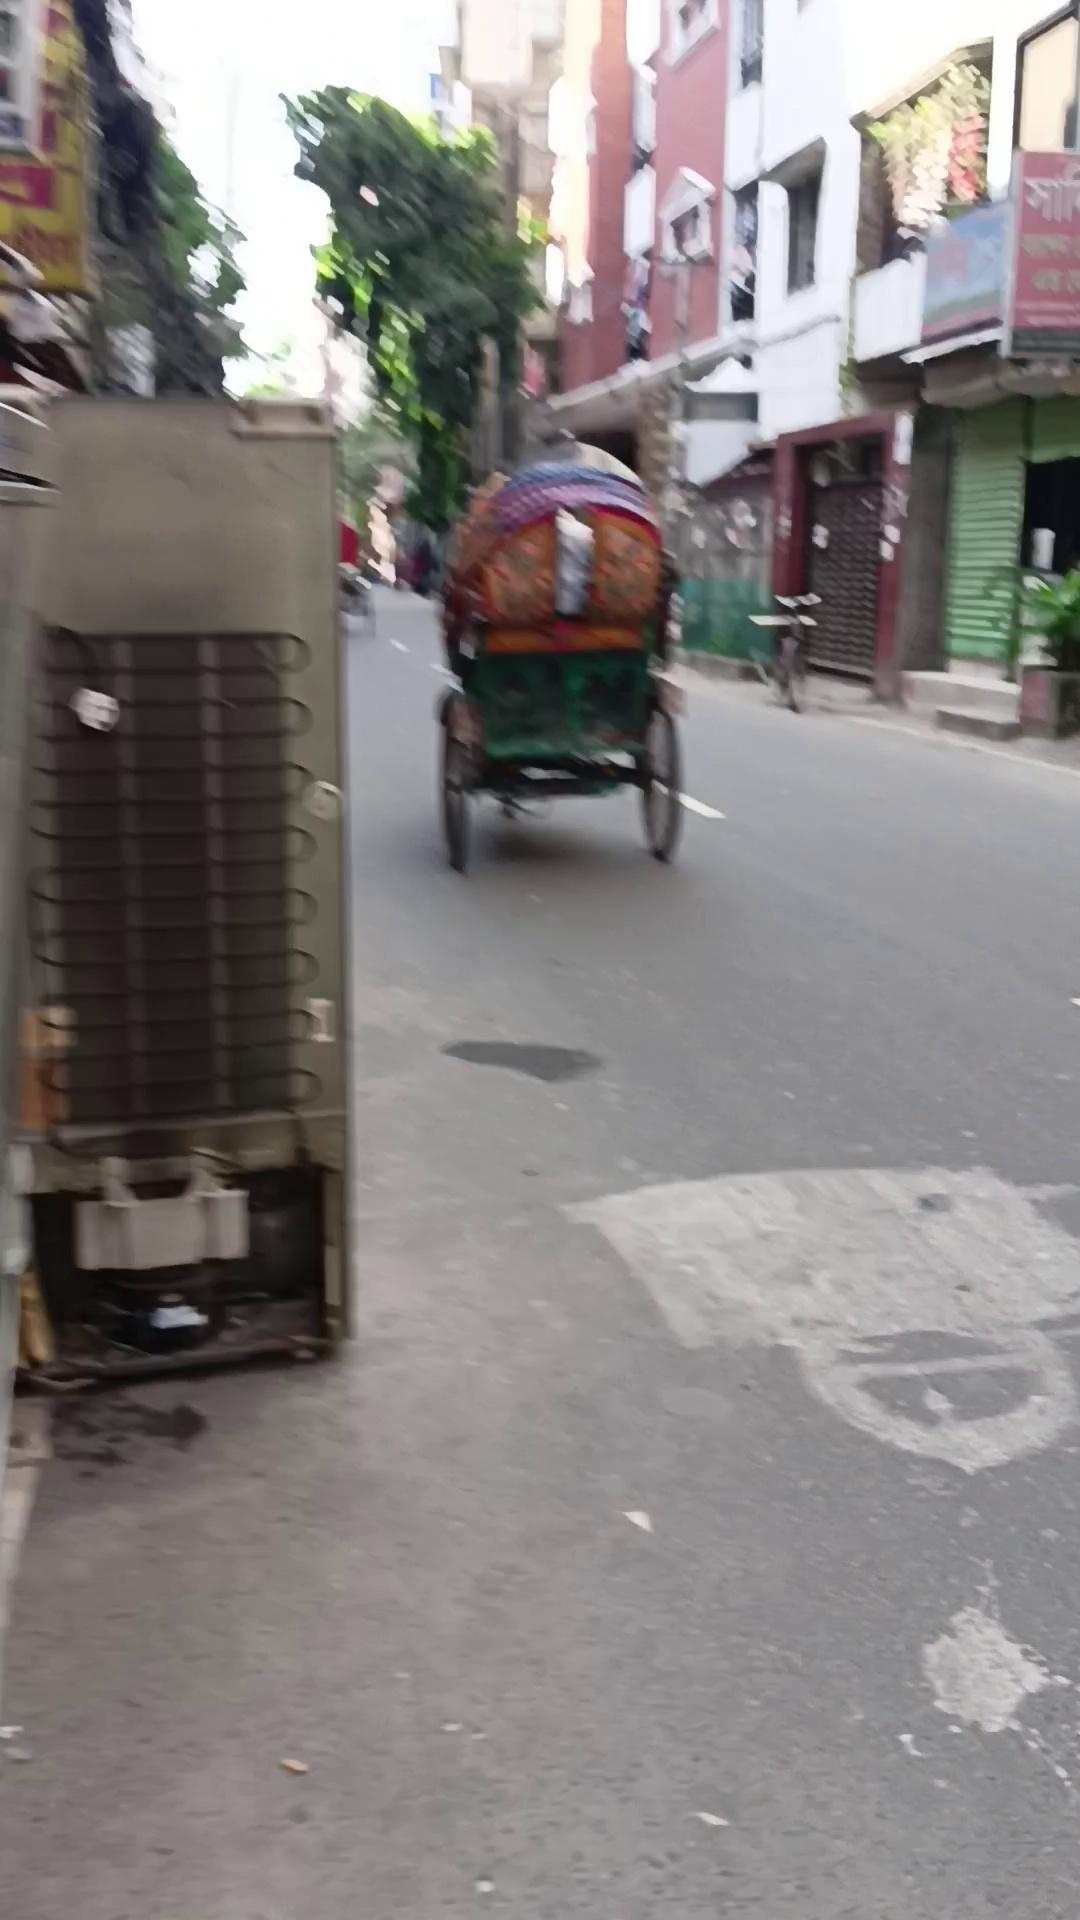Broken-road: (898, 666, 1023, 740), (932, 705, 1021, 740)
Construction-barrier: (745, 589, 824, 713)
Crosswalk: (3, 392, 357, 1389)
Fallen-tree: (981, 560, 1077, 741)
Fence: (397, 415, 709, 887)
Light-pole: (276, 80, 547, 578)
